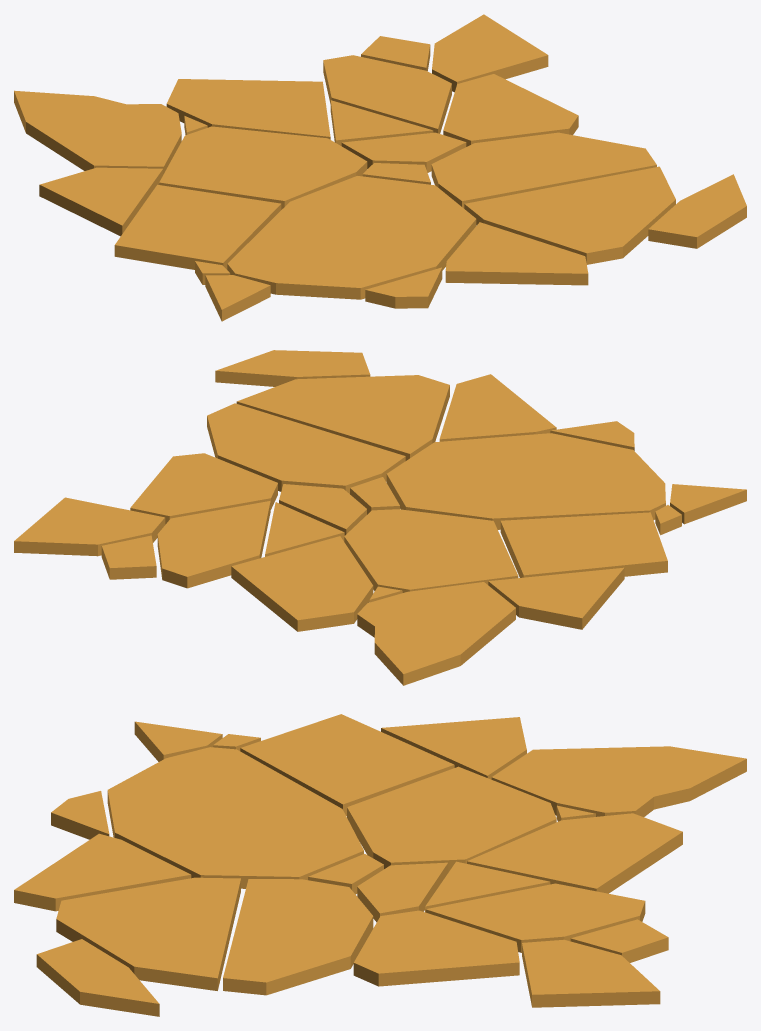
Rendered from ground-cracked.glb.
The picture shows the model from 3 angles, top to bottom: view 1: azimuth 30°, elevation 25°; view 2: azimuth 150°, elevation 25°; view 3: azimuth 270°, elevation 25°; orthographic projection. The views are drawn at different scales.
Visible parts, largest first — view 1: ground-cracked; view 2: ground-cracked; view 3: ground-cracked.
Boxes of the visible parts, box(x1,y1,x2,y2) form: ground-cracked: box(14, 14, 746, 321); ground-cracked: box(14, 350, 746, 685); ground-cracked: box(14, 714, 746, 1016).
Size of the model in its own units: 4.66 by 0.0969 by 4.98.
